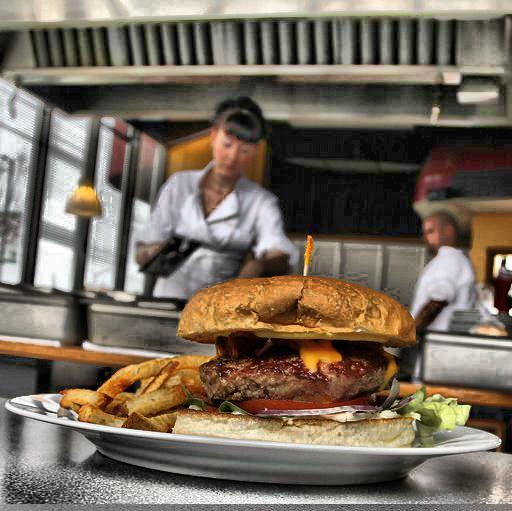burger: (165, 250, 441, 459)
